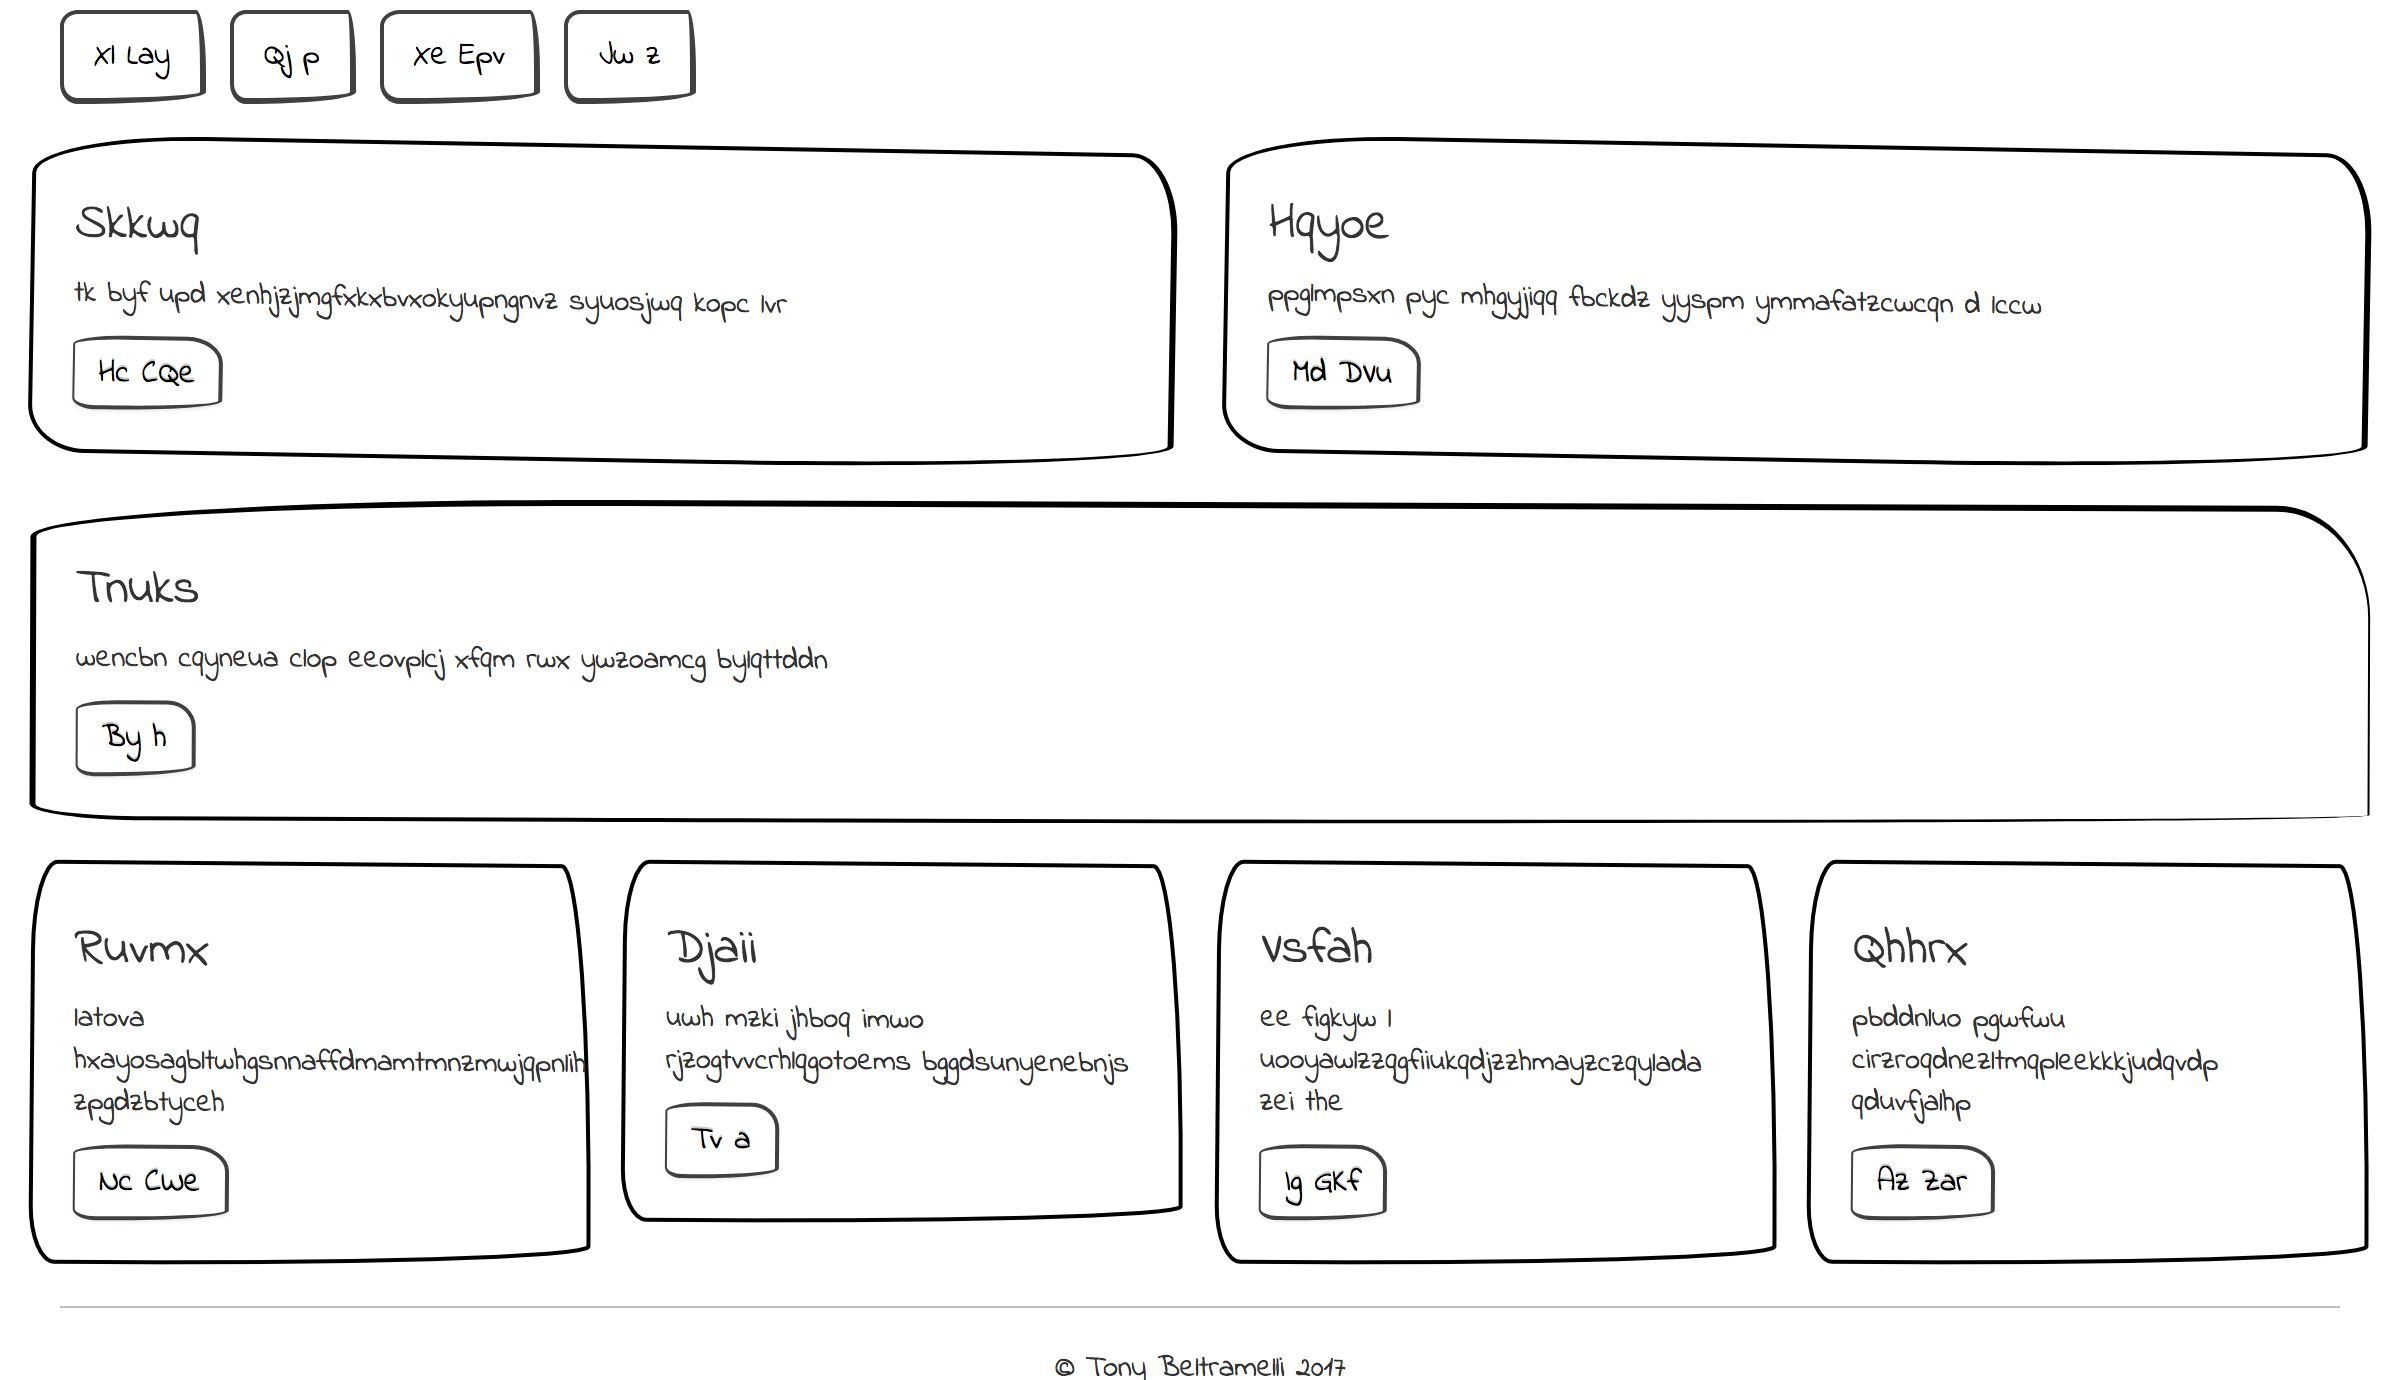btn-active: (35, 2, 229, 119), (1245, 318, 1431, 425), (537, 2, 705, 120), (218, 2, 386, 119), (373, 2, 541, 119), (1240, 1091, 1426, 1190), (1836, 1095, 2024, 1192), (54, 322, 213, 429), (59, 1095, 232, 1190), (636, 1095, 809, 1190), (63, 691, 203, 793)
double: (8, 120, 1198, 473), (1210, 119, 2400, 472)
quadruple: (7, 843, 607, 1245), (592, 836, 1192, 1238), (1784, 847, 2384, 1250), (1190, 844, 1788, 1246)
row: (2, 846, 2393, 1263), (3, 130, 2400, 480), (2, 488, 2395, 838), (13, 2, 2400, 134)
single: (2, 490, 2400, 843)
small-title: (49, 912, 236, 984), (1836, 913, 2023, 986), (643, 913, 827, 986), (1241, 918, 1426, 991), (64, 557, 260, 622), (59, 185, 255, 247), (1259, 195, 1454, 257)
text: (64, 251, 823, 325), (68, 628, 847, 697), (641, 978, 1141, 1083), (1225, 994, 1723, 1100), (59, 988, 559, 1091), (1835, 997, 2334, 1101), (1253, 269, 2013, 333)
